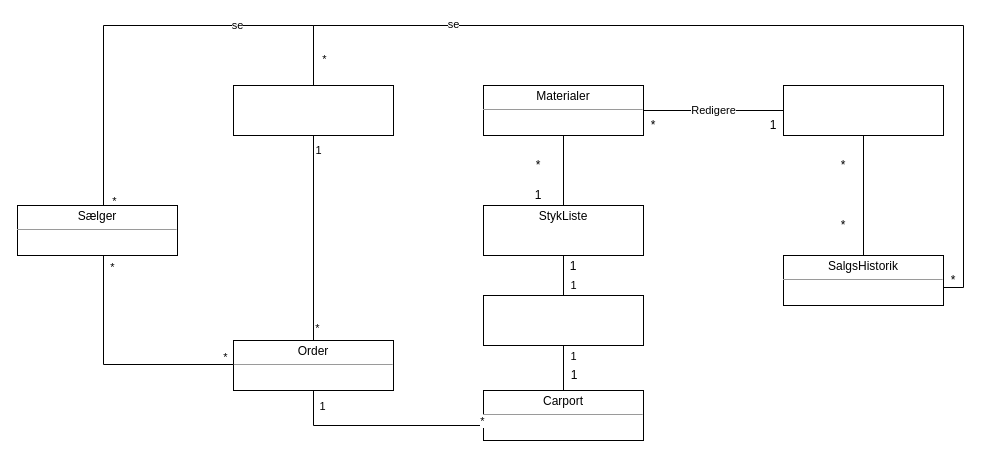
Some shapes in this 991 by 458 pixel diagram are drawn without their labels. Here are the shapes that lost their labels. From the top down, the centre of each, then its label:
the point at 313,110: Kunde
the point at 863,110: Admin
the point at 563,320: PdfOversigt
